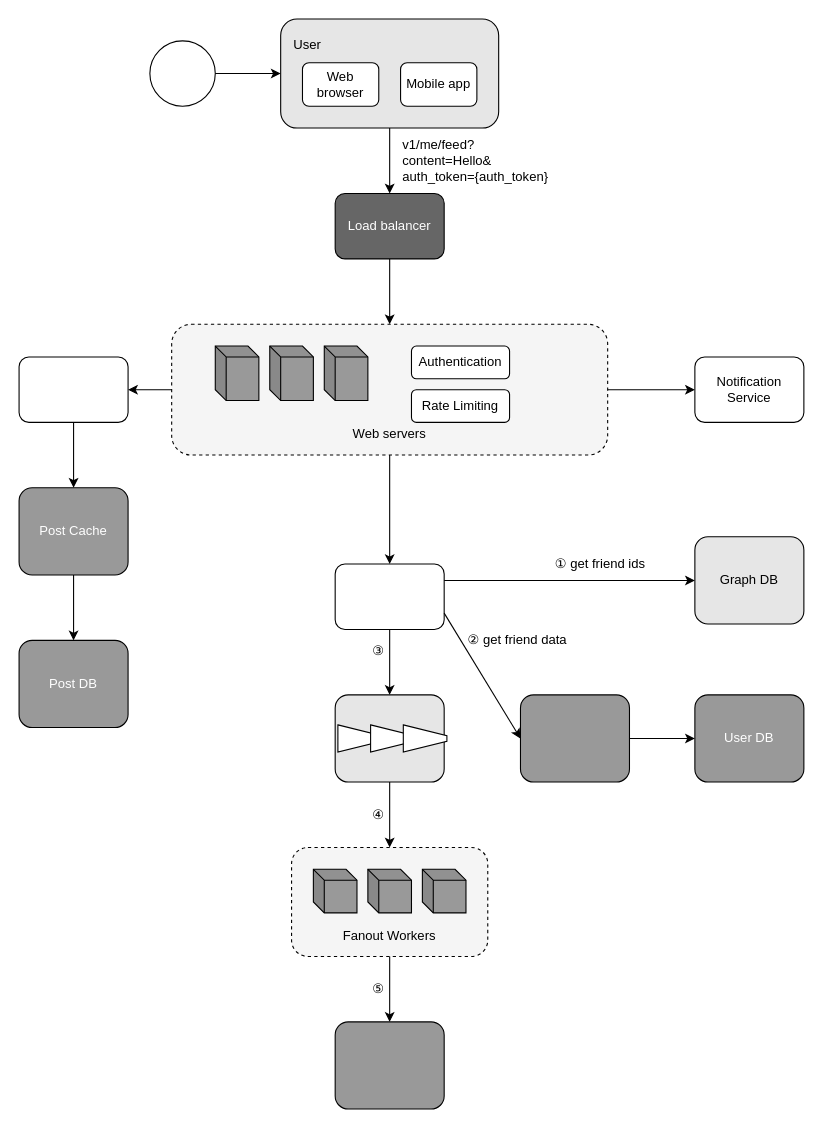
Some shapes in this 823 by 1128 pixel diagram are drawn without their labels. The centre of each missing label's shape, as x and y in pixels:
"DNS" belongs at (x=182, y=73).
"Fanout Service" belongs at (x=389, y=596).
"News Feed Cache" belongs at (x=389, y=1065).
"Post Service" belongs at (x=73, y=389).
"User Cache" belongs at (x=574, y=738).
